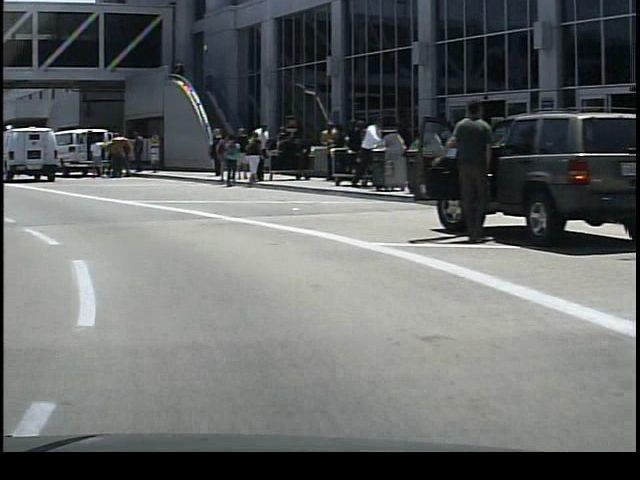person: (428, 78, 499, 246), (346, 111, 381, 195), (246, 122, 270, 183), (240, 130, 262, 181), (104, 131, 125, 182), (127, 130, 149, 177), (86, 138, 105, 184), (212, 126, 221, 178)
